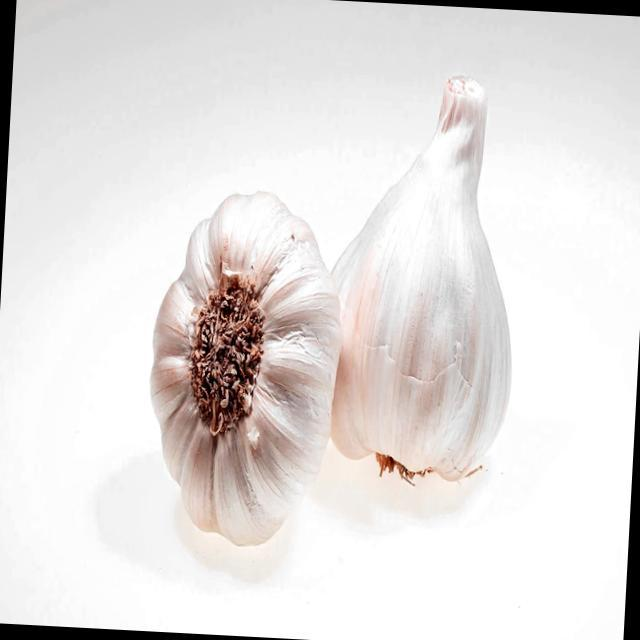garlic: (332, 78, 510, 481), (151, 192, 340, 544)
